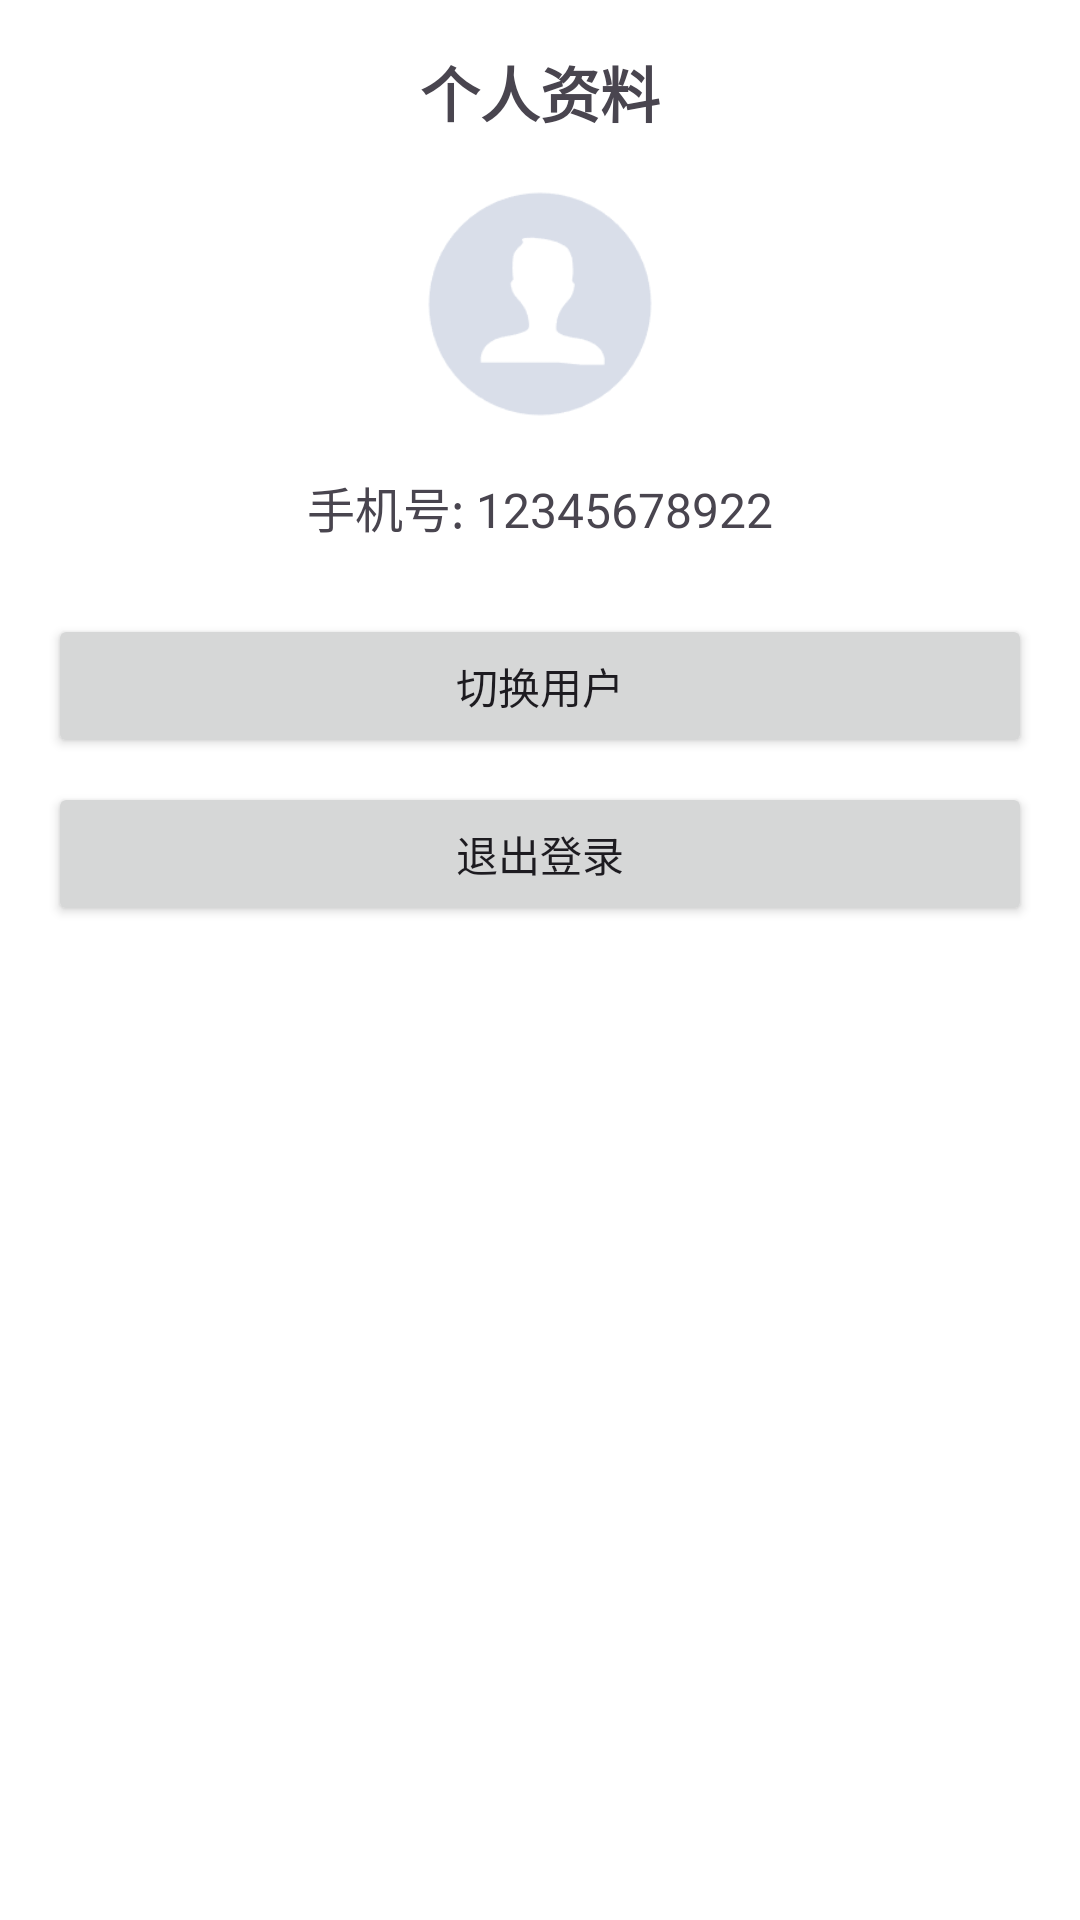

Icon click points for this 1080w x 1920h phone screenshot, format (x,y):
user: (540,304)
